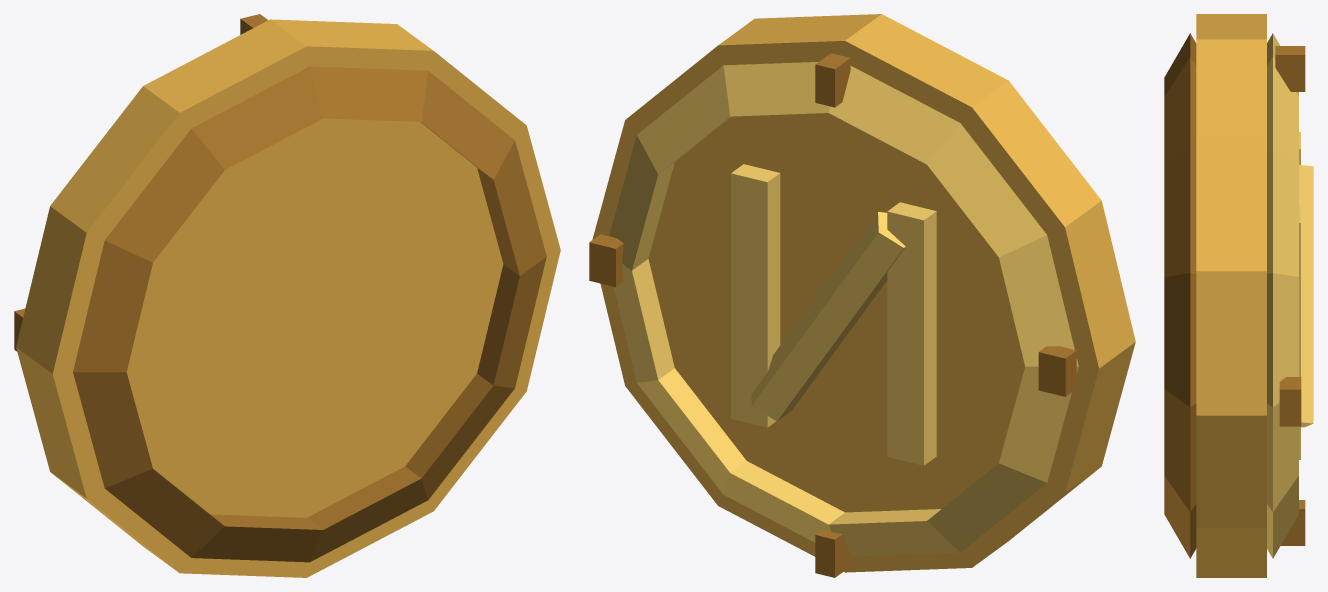
The model's file is coin.glb.
The picture shows the model from 3 angles, left to right: view 1: azimuth 30°, elevation 25°; view 2: azimuth 150°, elevation 25°; view 3: azimuth 270°, elevation 25°; orthographic projection. The views are drawn at different scales.
Visible parts, largest first — view 1: CoinBody, CoinRimBack; view 2: CoinBody, CoinRimFront, CoinMarkLeft, CoinMarkRight, CoinMarkDiagonal, CoinNotch2, CoinNotch0, CoinNotch1, CoinNotch3; view 3: CoinBody, CoinRimBack, CoinRimFront, CoinMarkDiagonal, CoinNotch1, CoinNotch0, CoinNotch3, CoinMarkRight.
Part boxes in pixels (left/top/right/bottom): CoinBody: left=16, top=19, right=560, bottom=577; CoinRimBack: left=73, top=66, right=546, bottom=562; CoinBody: left=592, top=14, right=1135, bottom=572; CoinRimFront: left=609, top=62, right=1078, bottom=556; CoinMarkLeft: left=887, top=202, right=936, bottom=465; CoinMarkRight: left=731, top=164, right=780, bottom=427; CoinMarkDiagonal: left=751, top=212, right=905, bottom=421; CoinNotch2: left=1038, top=346, right=1076, bottom=396; CoinNotch0: left=589, top=234, right=623, bottom=287; CoinNotch1: left=815, top=53, right=850, bottom=107; CoinNotch3: left=815, top=529, right=850, bottom=577; CoinBody: left=1196, top=14, right=1266, bottom=577; CoinRimBack: left=1164, top=33, right=1196, bottom=558; CoinRimFront: left=1267, top=33, right=1298, bottom=558; CoinMarkDiagonal: left=1299, top=165, right=1313, bottom=427; CoinNotch1: left=1275, top=46, right=1305, bottom=91; CoinNotch0: left=1279, top=377, right=1301, bottom=426; CoinNotch3: left=1280, top=500, right=1305, bottom=545; CoinMarkRight: left=1299, top=205, right=1300, bottom=459.
Size of the model in its own units: 1.04 by 1.04 by 0.2744.
